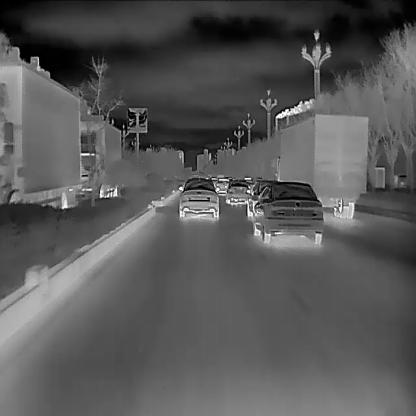car: (253, 180, 323, 244), (178, 179, 218, 222), (245, 179, 276, 216), (225, 178, 249, 205)
truck: (0, 60, 81, 208), (275, 113, 368, 218), (77, 111, 121, 199)
